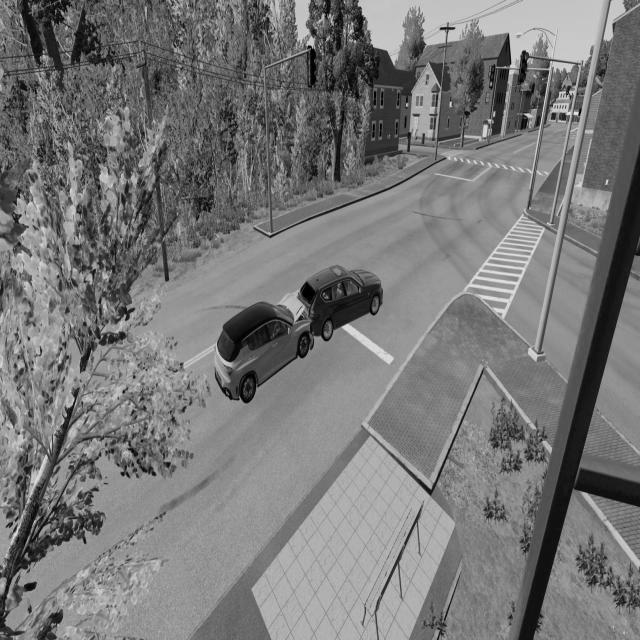accident: (213, 257, 386, 416)
